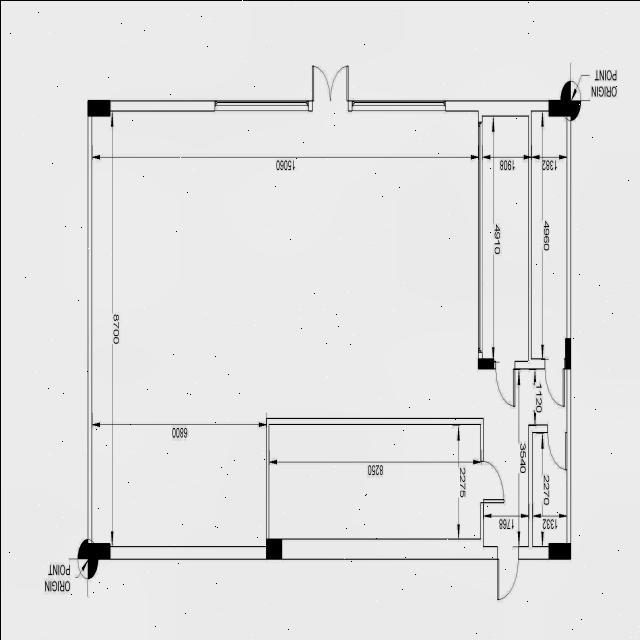Column: (86, 98, 110, 115), (86, 542, 110, 558), (548, 542, 570, 558), (548, 100, 570, 116), (265, 538, 281, 558), (564, 338, 570, 368), (477, 358, 493, 368)
Door: (496, 545, 518, 599), (479, 460, 504, 502), (544, 357, 564, 406), (494, 360, 514, 406), (546, 424, 566, 469)
Double-Door: (311, 64, 348, 110)
Window: (351, 100, 445, 110), (214, 100, 308, 110), (478, 120, 482, 352)
